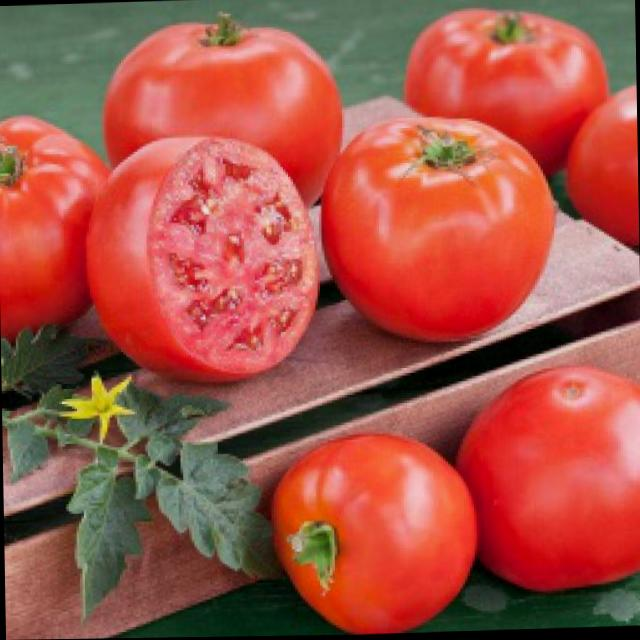tomato: (324, 115, 550, 346), (102, 13, 343, 215), (453, 367, 640, 597), (272, 434, 478, 635), (407, 7, 610, 186), (0, 112, 112, 340)
